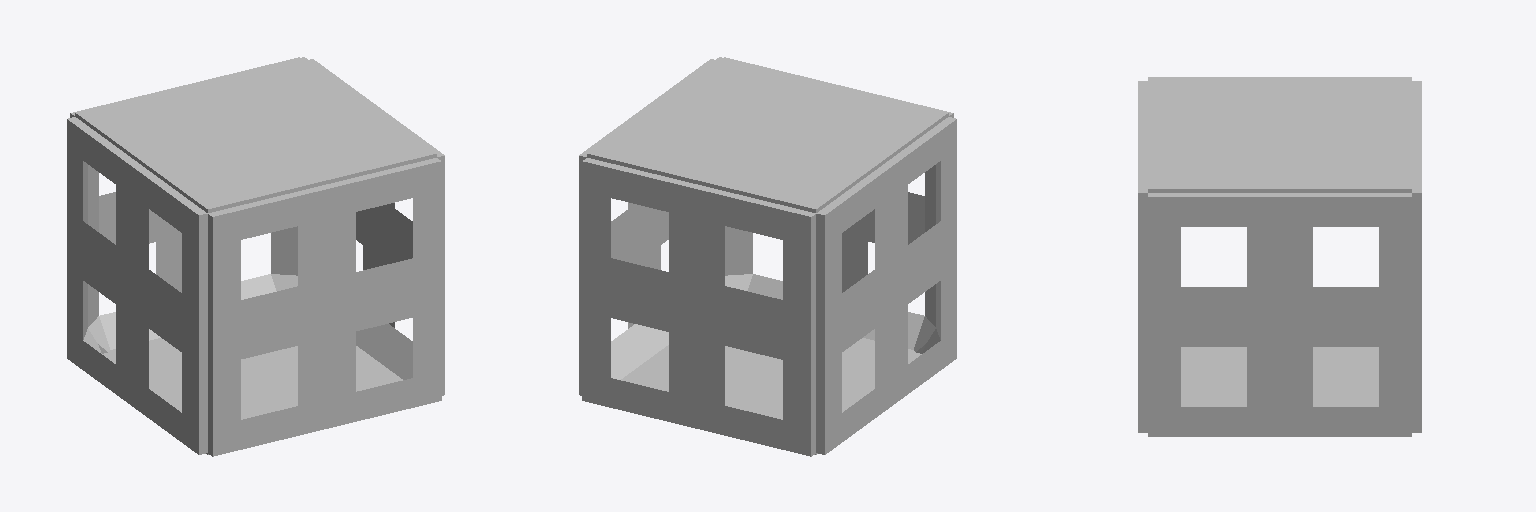
File: STAGE (2).obj
3 renders of one model, left to right at view 1: azimuth 30°, elevation 25°; view 2: azimuth 150°, elevation 25°; view 3: azimuth 270°, elevation 25°, orthographic.
Visible parts, largest first — view 1: top.002_Cube.015; view 2: top.002_Cube.015; view 3: top.002_Cube.015.
Part boxes in pixels (left/top/right/bottom): top.002_Cube.015: left=67, top=57, right=444, bottom=456; top.002_Cube.015: left=579, top=57, right=956, bottom=456; top.002_Cube.015: left=1138, top=77, right=1421, bottom=436.
Bounding box in the file's own units: 43 × 41 × 43.